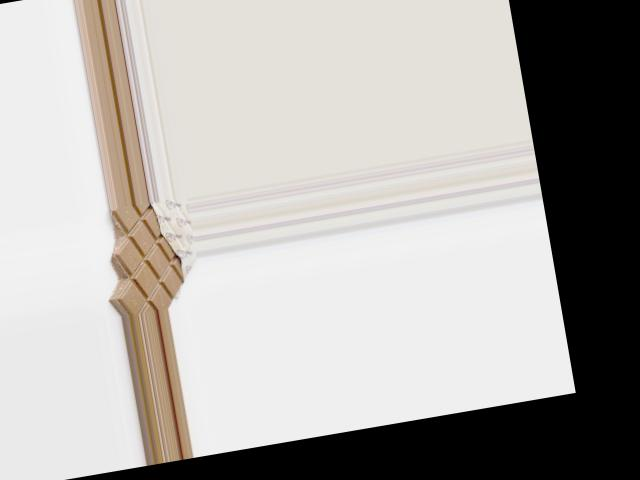chocolate: (102, 195, 203, 315)
